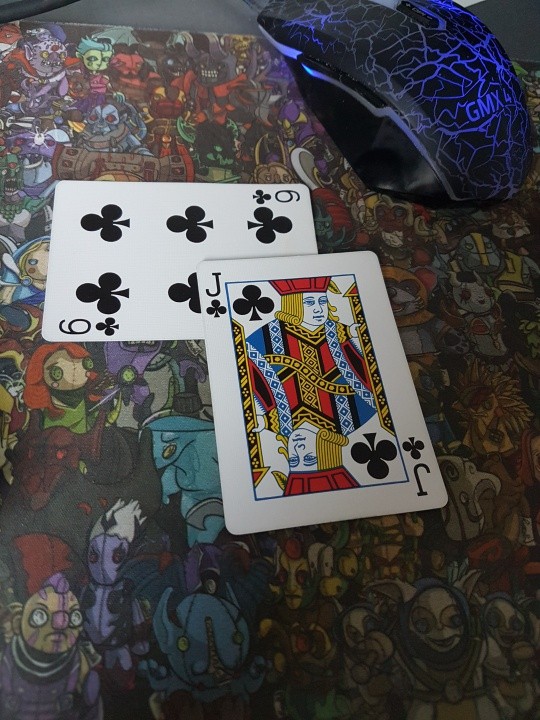6: (42, 180, 318, 341)
jack: (194, 250, 448, 534)
